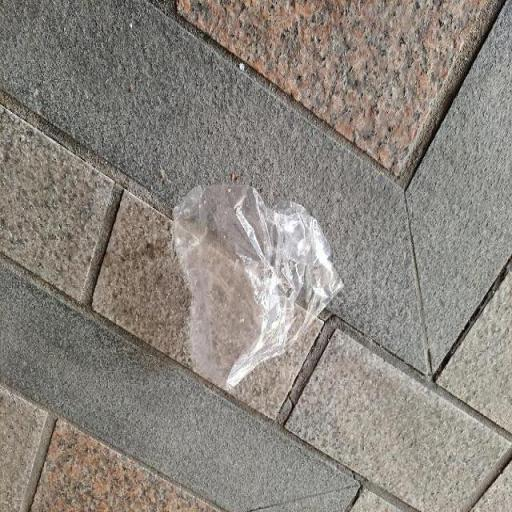plastic-bag: (171, 179, 346, 394)
